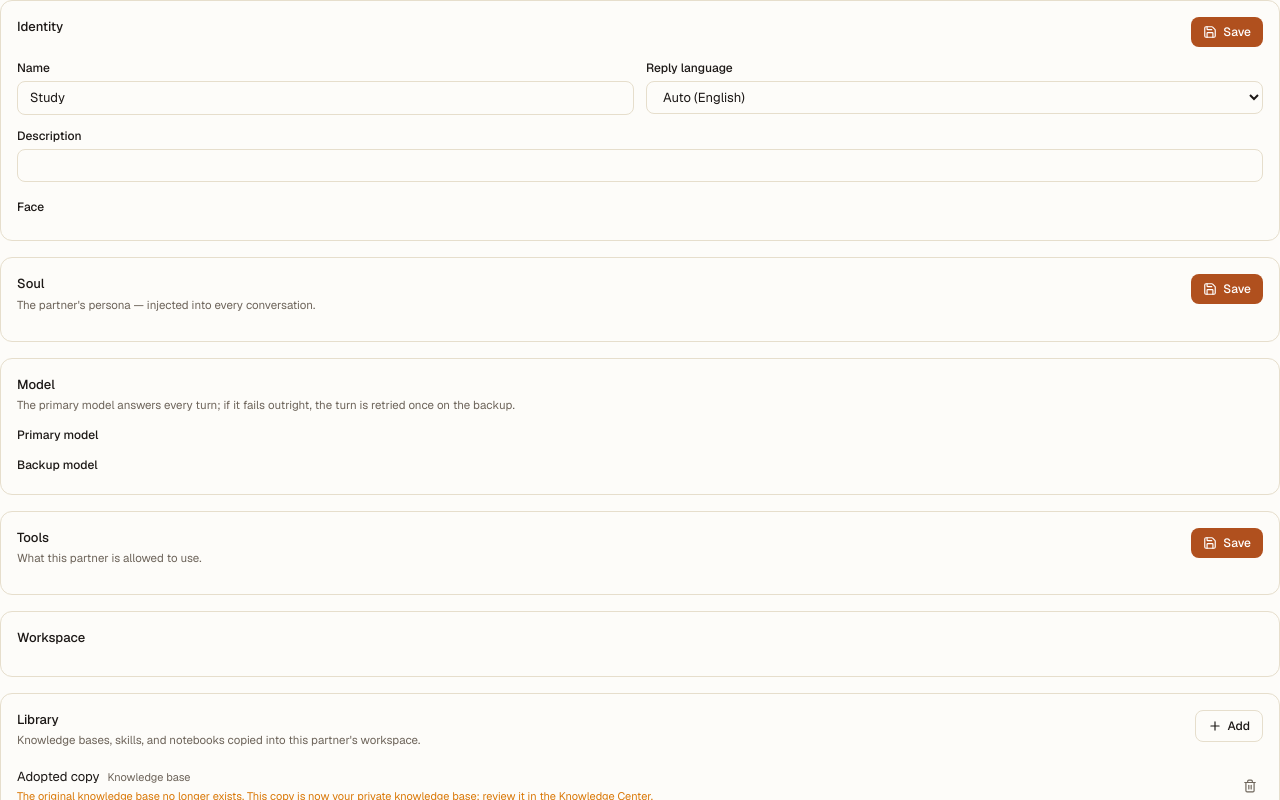
Test: removes Adopted copy by its reference or legacy name
The width and height of the screenshot is (1280, 800).
Step 1. Click the button named "Remove" → {"x": 1250, "y": 786}, box [1237, 772, 1263, 798]
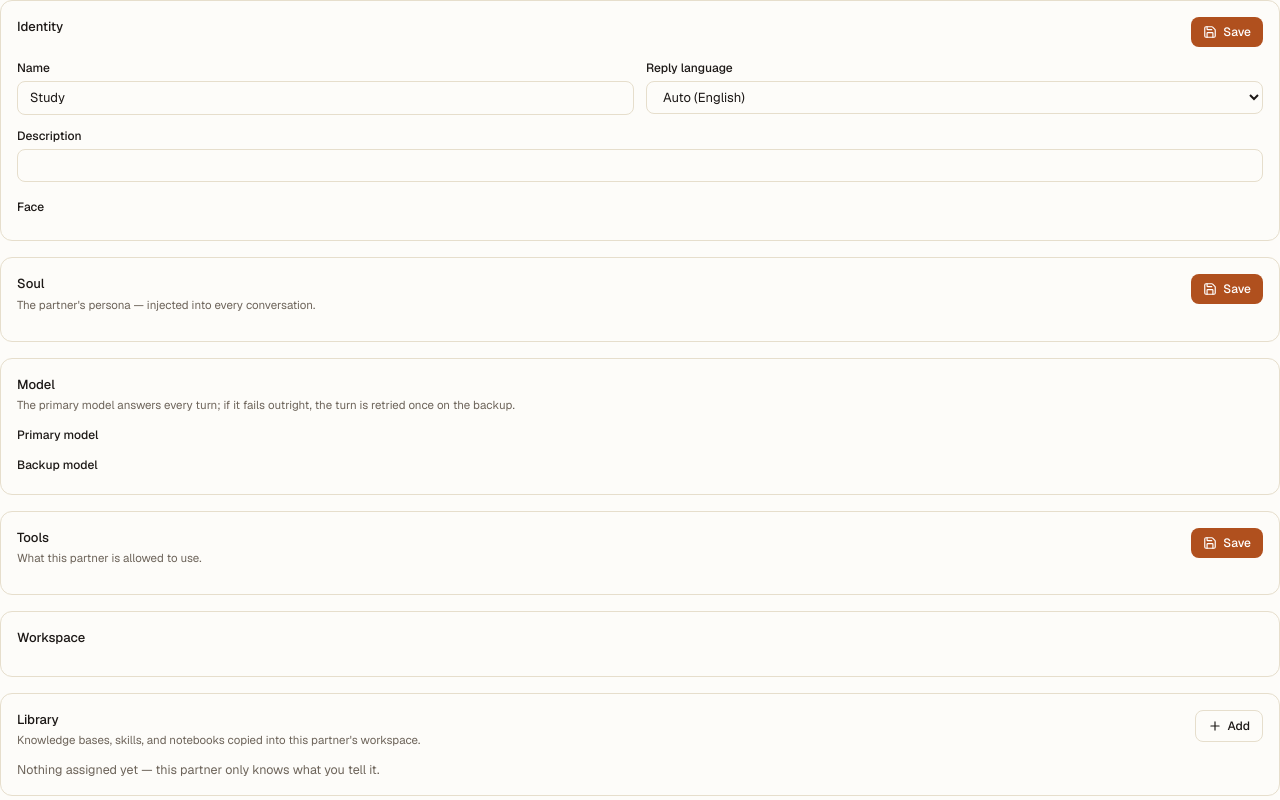
Result: the text "Adopted copy" is gone
